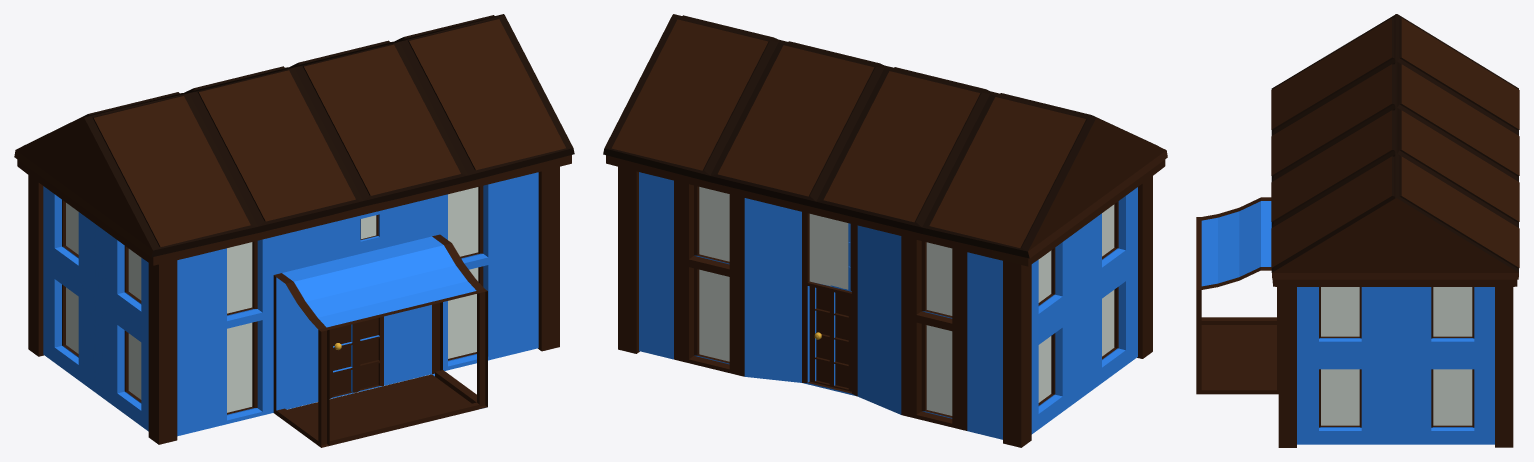
File: bluehouse.fbx
3 renders of one model, left to right at view 1: azimuth 30°, elevation 25°; view 2: azimuth 150°, elevation 25°; view 3: azimuth 270°, elevation 25°, orthographic. The views are drawn at different scales.
Parts seen in each view (by area): view 1: Cube.006, Cube, Cube.005, Cube.007, Cube.002, Cube.008, Cube.003, Cube.001; view 2: Cube.006, Cube, Cube.005, Cube.001, Cube.008, Cube.004, Cube.002; view 3: Cube.006, Cube, Cube.005, Cube.007, Cube.003, Cube.004, Cube.008.
Boxes of the visible parts, bbox=[...] form: Cube.006: bbox=[14, 14, 574, 257]; Cube: bbox=[43, 249, 538, 436]; Cube.005: bbox=[43, 172, 538, 336]; Cube.007: bbox=[273, 234, 487, 447]; Cube.002: bbox=[148, 260, 177, 444]; Cube.008: bbox=[17, 155, 571, 265]; Cube.003: bbox=[538, 166, 559, 351]; Cube.001: bbox=[28, 175, 43, 356]; Cube.006: bbox=[603, 14, 1167, 258]; Cube: bbox=[639, 251, 1137, 439]; Cube.005: bbox=[639, 172, 1137, 339]; Cube.001: bbox=[1003, 261, 1031, 447]; Cube.008: bbox=[606, 155, 1165, 266]; Cube.004: bbox=[618, 166, 639, 353]; Cube.002: bbox=[1137, 176, 1152, 358]; Cube.006: bbox=[1271, 14, 1519, 279]; Cube: bbox=[1297, 355, 1494, 444]; Cube.005: bbox=[1297, 287, 1494, 355]; Cube.007: bbox=[1196, 197, 1278, 394]; Cube.003: bbox=[1278, 287, 1296, 447]; Cube.004: bbox=[1495, 287, 1513, 447]; Cube.008: bbox=[1272, 279, 1517, 286].
Size of the model in its own units: 7.66 by 4.88 by 5.63.
